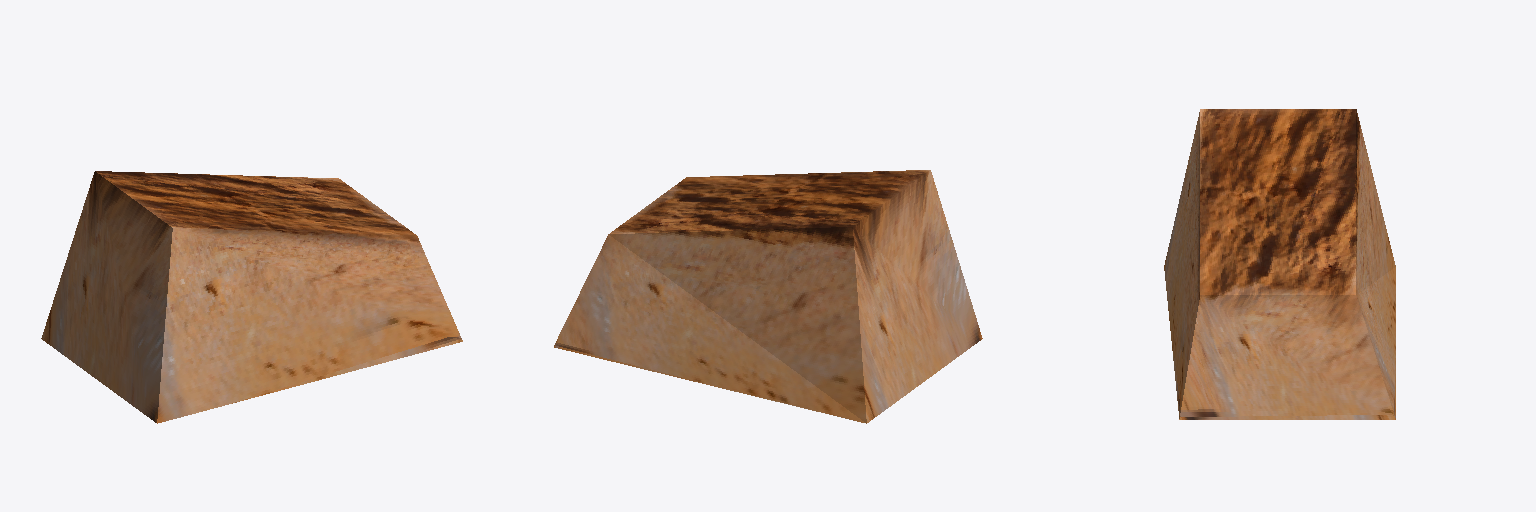
The picture shows the model from 3 angles: view 1: azimuth 30°, elevation 25°; view 2: azimuth 150°, elevation 25°; view 3: azimuth 270°, elevation 25°; orthographic projection.
Parts seen in each view (by area): view 1: Cube; view 2: Cube; view 3: Cube.
Boxes of the visible parts, <box> form: Cube: <box>41,171,462,423</box>; Cube: <box>554,170,982,423</box>; Cube: <box>1164,109,1395,419</box>.
Bounding box in the file's own units: 3.77 × 2 × 2.41.
Materials: 1 (1 with a texture image).